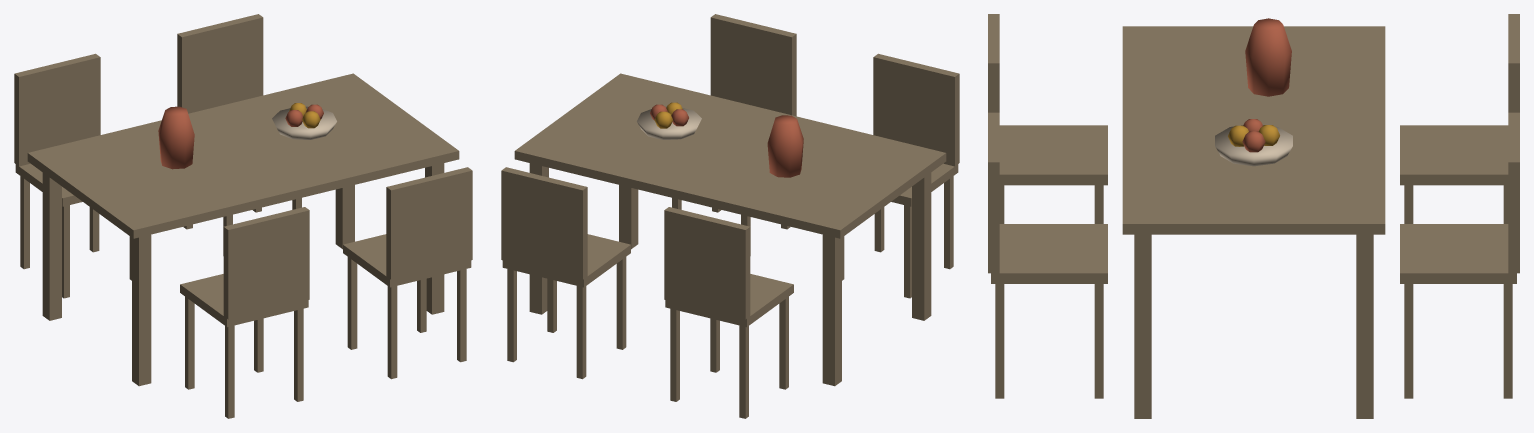
File: city_dining_set.glb
3 views of the same model, side by side, from view 1: azimuth 30°, elevation 25°; view 2: azimuth 150°, elevation 25°; view 3: azimuth 270°, elevation 25° (orthographic). The views are drawn at different scales.
Visible parts, largest first — view 1: CityDiningSet_Top, CityDiningSet_Back1, CityDiningSet_Back0, CityDiningSet_Back2, CityDiningSet_Back3, CityDiningSet_Leg-0.72-0.38, CityDiningSet_Leg-0.720.38, CityDiningSet_Seat1, CityDiningSet_Seat0, CityDiningSet_Jug, CityDiningSet_Leg0.720.38, CityDiningSet_Bowl (+13 smaller); view 2: CityDiningSet_Top, CityDiningSet_Back3, CityDiningSet_Back2, CityDiningSet_Back0, CityDiningSet_Back1, CityDiningSet_Leg-0.720.38, CityDiningSet_Leg-0.72-0.38, CityDiningSet_Seat3, CityDiningSet_Seat2, CityDiningSet_Jug, CityDiningSet_Leg0.72-0.38, CityDiningSet_Bowl (+13 smaller); view 3: CityDiningSet_Top, CityDiningSet_Seat0, CityDiningSet_Seat2, CityDiningSet_Seat1, CityDiningSet_Seat3, CityDiningSet_Leg0.72-0.38, CityDiningSet_Leg0.720.38, CityDiningSet_Jug, CityDiningSet_Back1, CityDiningSet_Back3, CityDiningSet_Bowl, CityDiningSet_Back0 (+5 smaller).
Boxes of the visible parts, x1,y1,x2,y2 form: CityDiningSet_Top: [27, 73, 459, 238]; CityDiningSet_Back1: [386, 167, 472, 279]; CityDiningSet_Back0: [223, 207, 309, 319]; CityDiningSet_Back2: [14, 53, 100, 166]; CityDiningSet_Back3: [177, 14, 263, 113]; CityDiningSet_Leg-0.72-0.38: [132, 234, 151, 386]; CityDiningSet_Leg-0.720.38: [42, 172, 61, 320]; CityDiningSet_Seat1: [343, 234, 471, 287]; CityDiningSet_Seat0: [180, 274, 308, 327]; CityDiningSet_Jug: [158, 106, 194, 169]; CityDiningSet_Leg0.720.38: [335, 185, 354, 249]; CityDiningSet_Bowl: [272, 106, 336, 139]; CityDiningSet_Top: [514, 73, 946, 238]; CityDiningSet_Back3: [501, 167, 587, 279]; CityDiningSet_Back2: [664, 207, 750, 319]; CityDiningSet_Back0: [873, 53, 959, 166]; CityDiningSet_Back1: [710, 14, 796, 116]; CityDiningSet_Leg-0.720.38: [822, 234, 841, 386]; CityDiningSet_Leg-0.72-0.38: [912, 172, 931, 320]; CityDiningSet_Seat3: [502, 234, 630, 287]; CityDiningSet_Seat2: [665, 274, 793, 327]; CityDiningSet_Jug: [767, 115, 803, 177]; CityDiningSet_Leg0.72-0.38: [619, 185, 638, 249]; CityDiningSet_Bowl: [637, 106, 701, 139]; CityDiningSet_Top: [1122, 26, 1385, 234]; CityDiningSet_Seat0: [999, 125, 1107, 185]; CityDiningSet_Seat2: [1400, 125, 1508, 185]; CityDiningSet_Seat1: [991, 224, 1107, 283]; CityDiningSet_Seat3: [1400, 224, 1516, 283]; CityDiningSet_Leg0.72-0.38: [1134, 234, 1151, 418]; CityDiningSet_Leg0.720.38: [1356, 234, 1373, 418]; CityDiningSet_Jug: [1245, 18, 1291, 96]; CityDiningSet_Back1: [988, 112, 999, 273]; CityDiningSet_Back3: [1508, 112, 1519, 273]; CityDiningSet_Bowl: [1215, 125, 1292, 166]; CityDiningSet_Back0: [988, 14, 999, 112].
Size of the model in its own units: 1.6 by 1 by 1.82.
